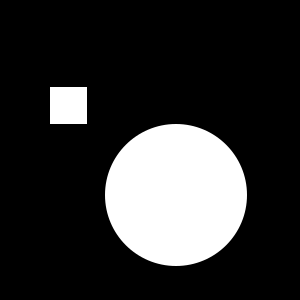circle: (50, 87, 87, 124)
rectangle: (105, 124, 247, 266)
triangle: (177, 185, 230, 238)
